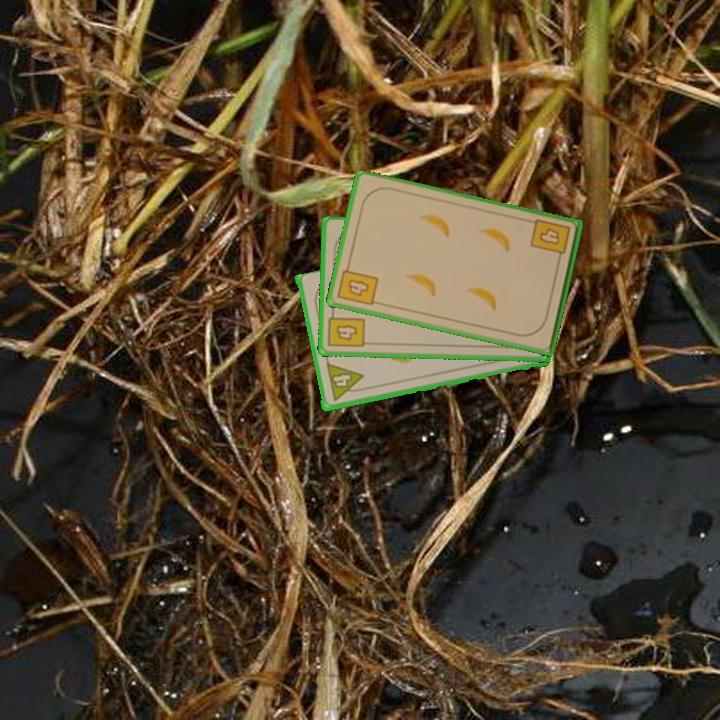4b: (334, 260, 381, 309), (527, 215, 573, 265), (325, 307, 367, 350)
4p: (323, 360, 368, 405)
